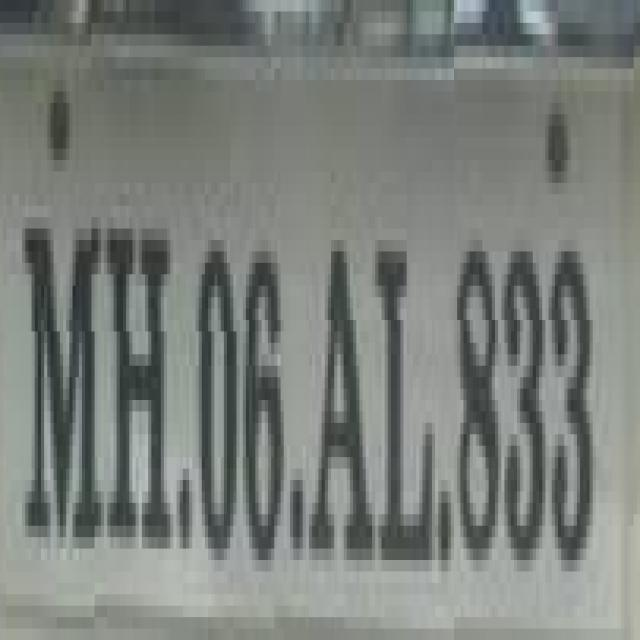license_plate: (28, 57, 640, 617)
